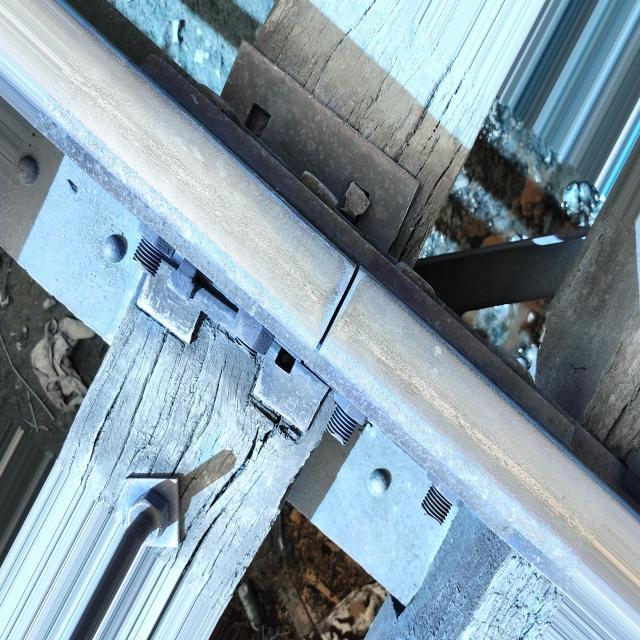Good Fasteners: (342, 182, 370, 222), (167, 269, 195, 300)
Missing Dogscrew: (244, 103, 271, 138), (275, 347, 295, 373)
